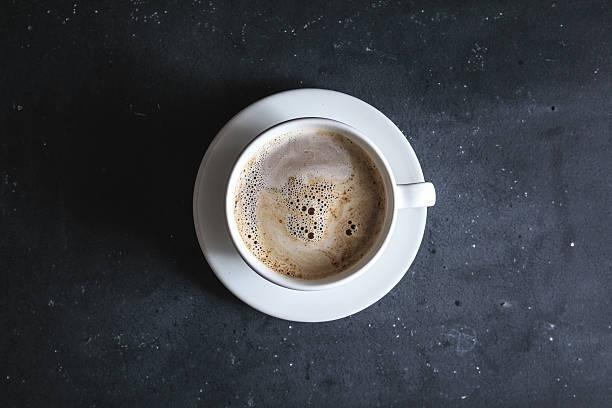cup-handle: (224, 113, 437, 293)
